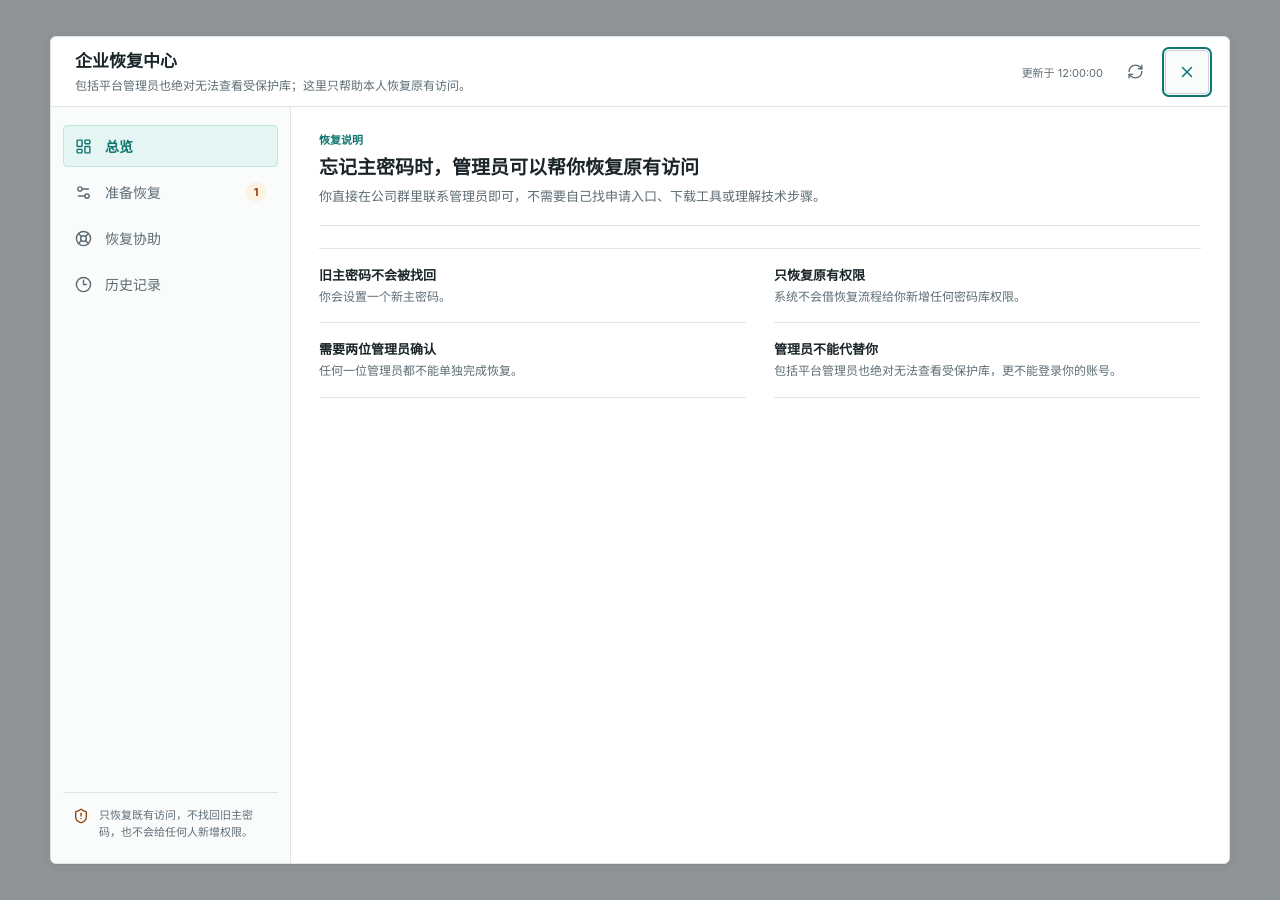
Scenario: enterprise recovery center › separates ready administrator accounts from the missing second setup confirmation
The width and height of the screenshot is (1280, 900).
Click the button "恢复协助" at (170, 238), box [63,217,278,259]
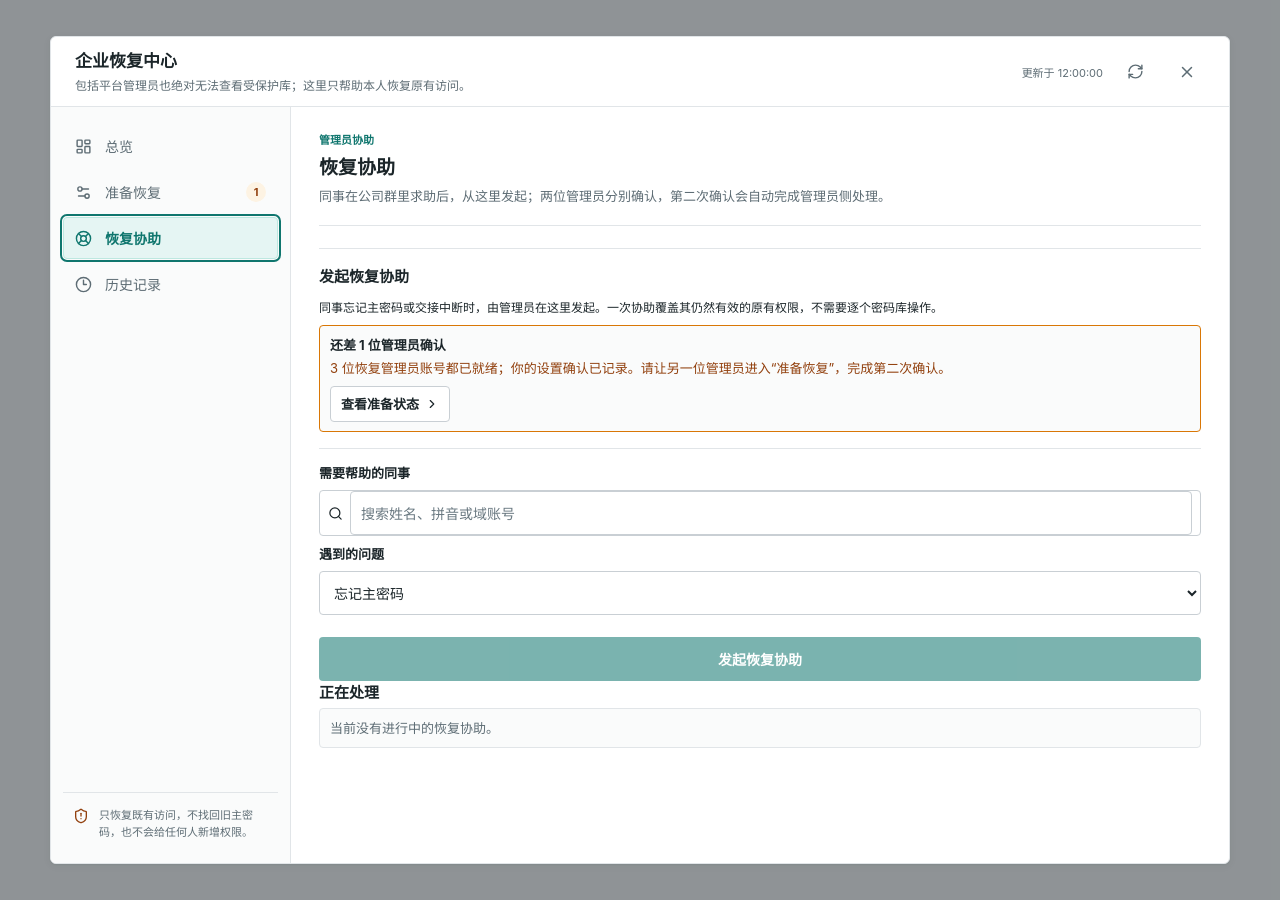
Check: the text "还差 1 位管理员确认" is shown, box [330,337,446,353]
Check: the text "3 位恢复管理员账号都已就绪；你的设置确认已记录。请让另一位管理员进入“准备恢复”，完成第二次确认。" is shown, box [330,360,951,376]
Click the button "查看准备状态" at (390, 404), box [330,386,450,422]
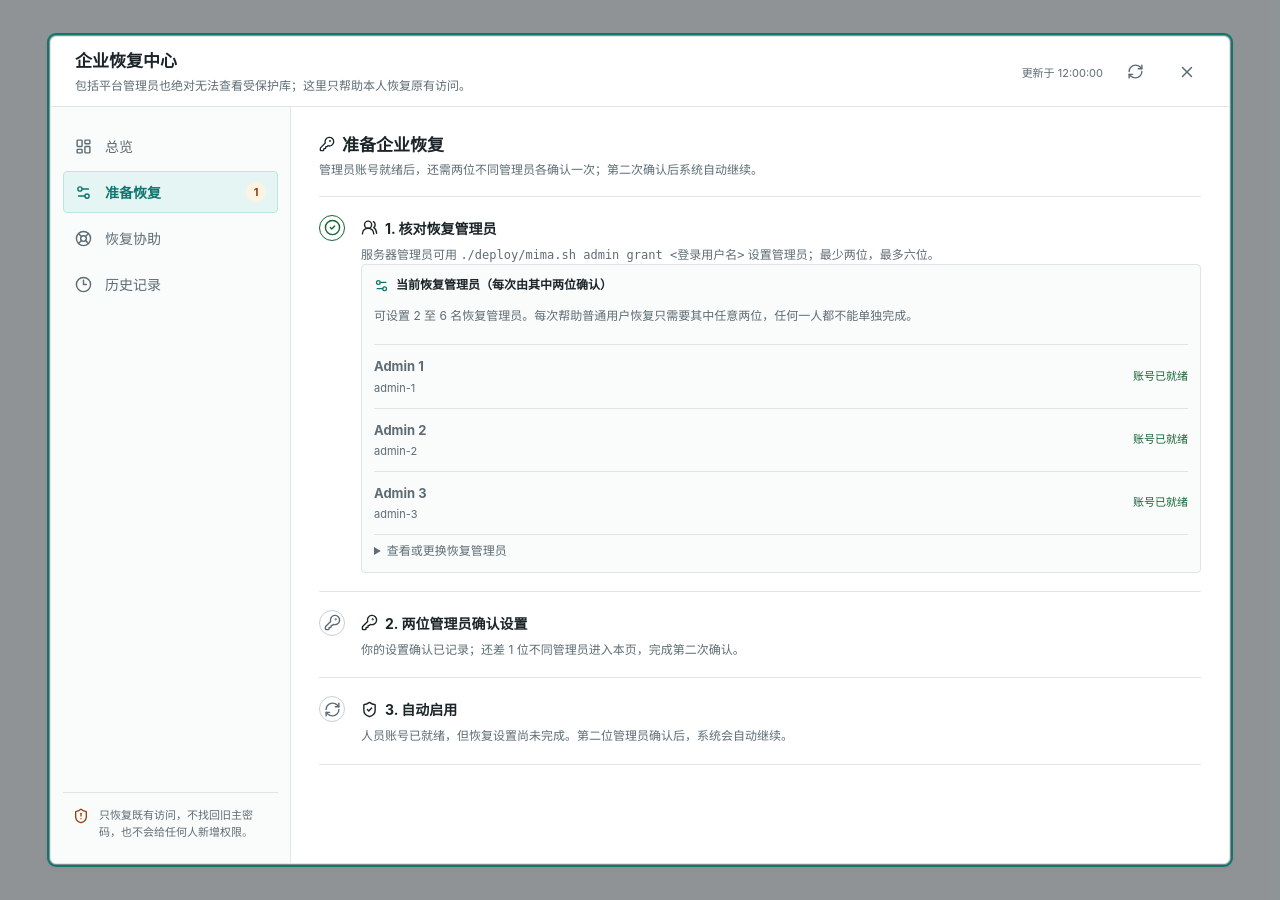
Check: the heading "准备企业恢复" is shown, box [319,135,444,155]
Check: the text "你的设置确认已记录；还差 1 位不同管理员进入本页，完成第二次确认。" is shown, box [361,642,745,656]
Check: the text "账号已就绪" is shown 3 times, box [1133,368,1188,385]; [1133,431,1188,448]; [1133,494,1188,511]
